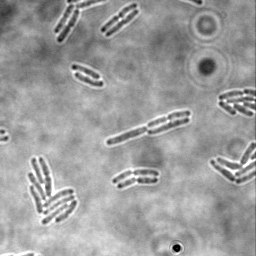Dividing: (100, 2, 138, 34), (106, 9, 140, 39), (57, 9, 81, 43), (112, 168, 160, 185), (147, 110, 191, 128), (53, 3, 75, 35), (118, 176, 159, 190)
Microcolony: (26, 156, 78, 226), (209, 141, 255, 184), (216, 88, 255, 118)
Rod: (105, 124, 148, 147), (147, 117, 191, 136), (74, 71, 104, 88), (71, 63, 101, 80)
